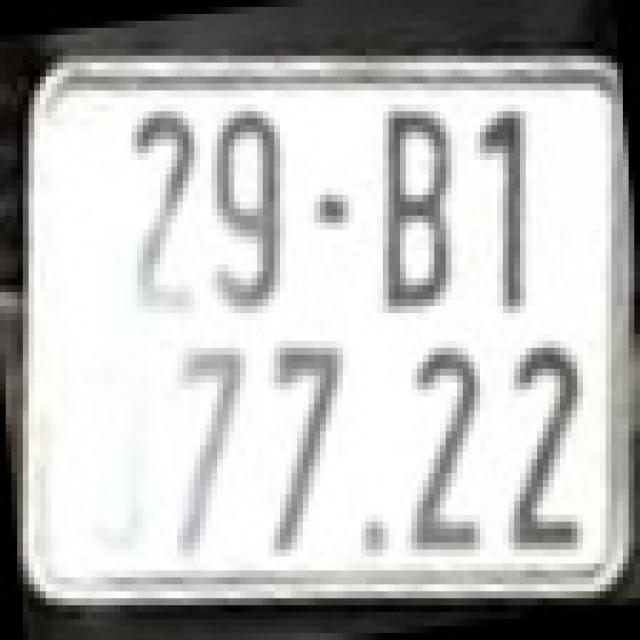1: (480, 111, 531, 306)
2: (508, 341, 583, 549), (126, 104, 200, 313), (411, 348, 486, 549)
7: (166, 341, 246, 556), (268, 341, 343, 556)
9: (211, 104, 286, 306)
B: (383, 111, 457, 306)
